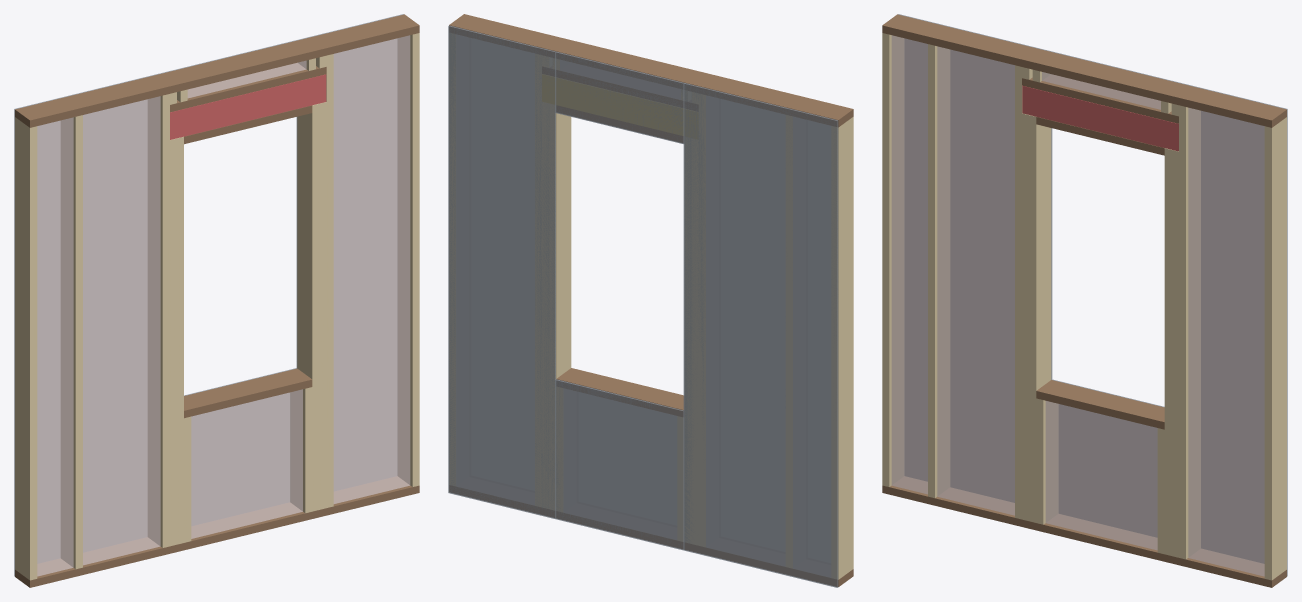
3 renders of one model, left to right at view 1: azimuth 30°, elevation 25°; view 2: azimuth 150°, elevation 25°; view 3: azimuth 330°, elevation 25°, orthographic.
Visible parts, largest first — view 1: EX7 GF; view 2: EX7 GF; view 3: EX7 GF.
Part boxes in pixels (bbox=[...]): EX7 GF: bbox=[14, 14, 419, 587]; EX7 GF: bbox=[448, 14, 853, 587]; EX7 GF: bbox=[882, 14, 1287, 587].
Size of the model in its own units: 2.08 by 2.39 by 0.149.
